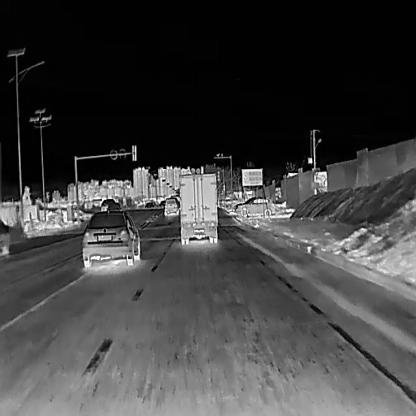car: (80, 209, 141, 266), (233, 195, 276, 217), (162, 196, 178, 215), (99, 198, 115, 212), (106, 202, 121, 213)
truck: (177, 170, 217, 244)
